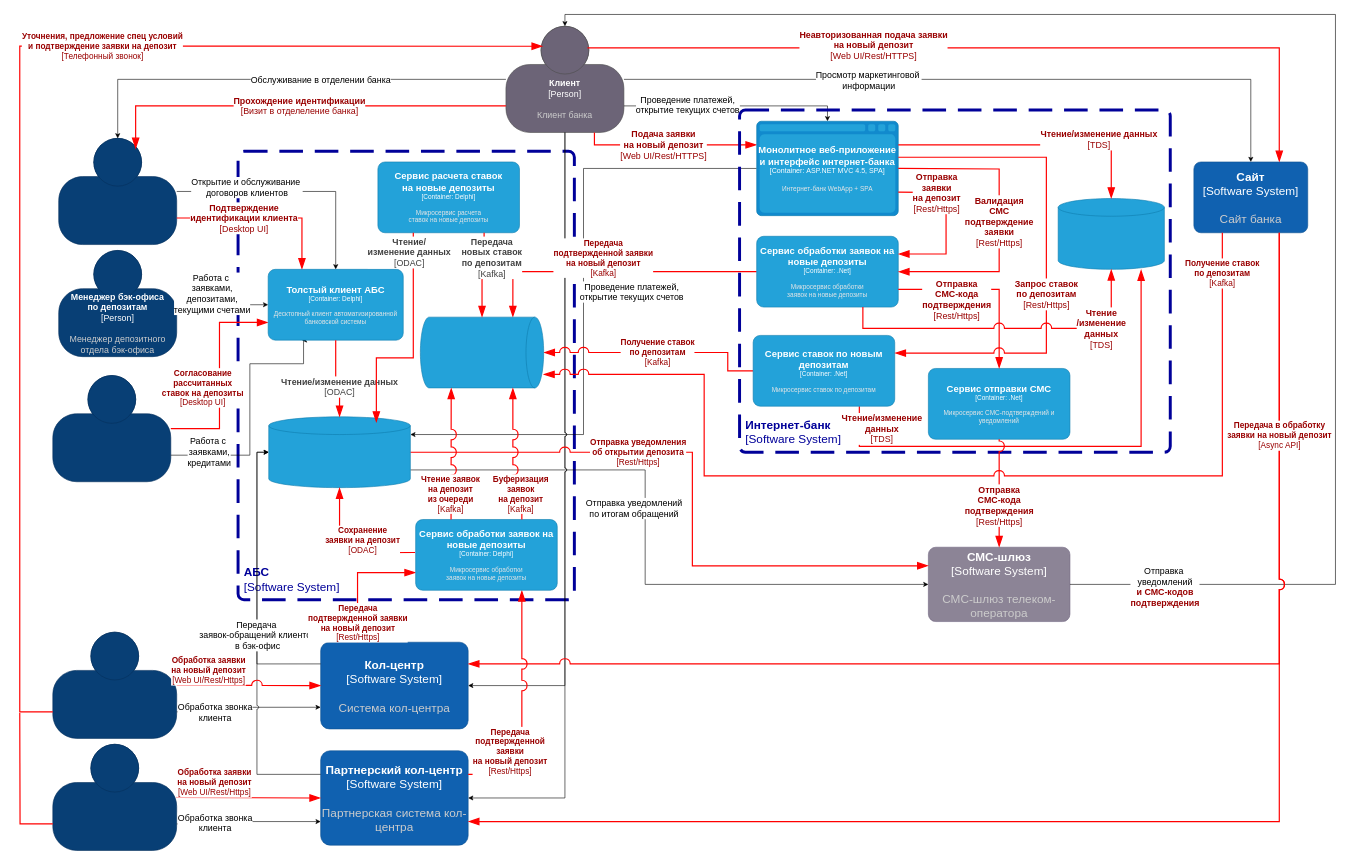
Image size: 1351x861. Some labels were removed from this diagram. Here are the shapes that lost their labels. From the top down, the centre of each, then its label:
At (117,191): "Менеджер фронт-офиса [Person] Менеджер фронт-офиса".
At (1111,233): "БД интернет-банка [Container: MS SQL] База данных интернет-банка".
At (482,352): "Очередь сообщений [Container: Apache Kafka] Очередь сообщений для АБС".
At (111,428): "Менеджер бэк-офиса по кредитам [Person] Менеджер кредитного отдела бэк-офиса".
At (339,452): "БД АБС [Container: Oracle] База данных автоматизированной банковской системы".
At (114,685): "Менеджер кол-центра [Person] Менеджер кол-центра".
At (114,797): "Менеджер партнерского кол-центра [Person] Менеджер партнерского кол-центра".
